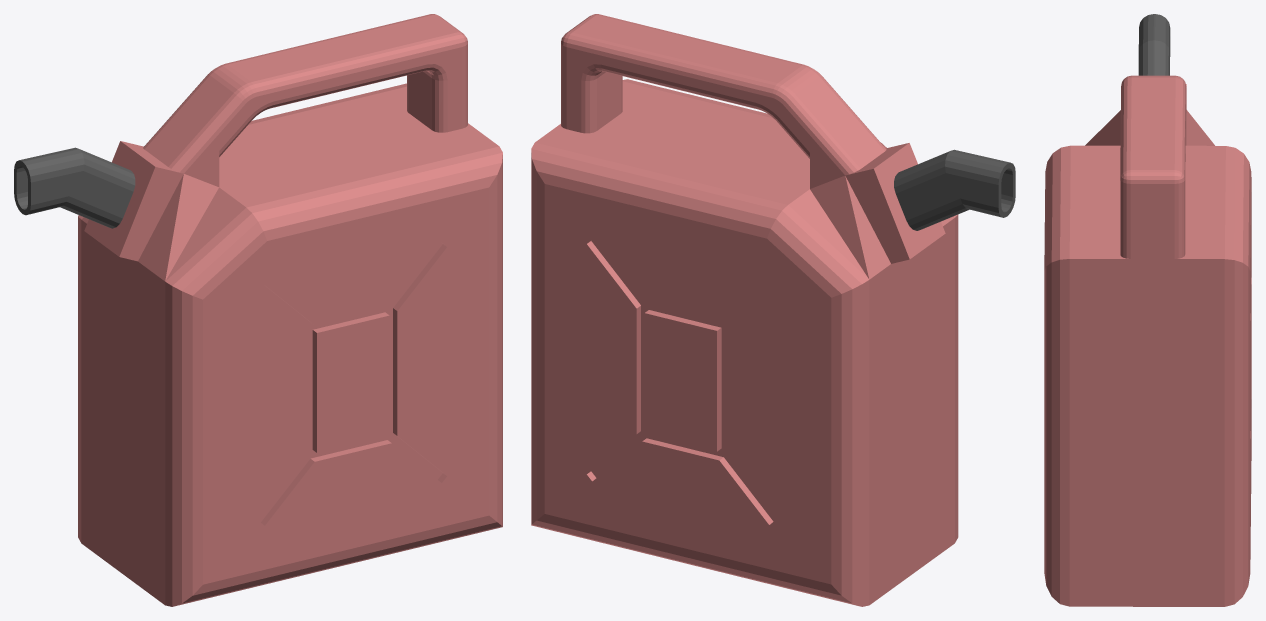
The model's file is MODOil.fbx.
3 views of the same model, side by side, from view 1: azimuth 30°, elevation 25°; view 2: azimuth 150°, elevation 25°; view 3: azimuth 270°, elevation 25° (orthographic). The views are drawn at different scales.
Parts seen in each view (by area): view 1: Mesh576; view 2: Mesh576; view 3: Mesh576.
Boxes of the visible parts, x1,y1,x2,y2 form: Mesh576: (14, 14, 502, 606); Mesh576: (531, 14, 1015, 606); Mesh576: (1044, 14, 1251, 606).
Bounding box in the file's own units: 56.66 × 58.99 × 25.63.
